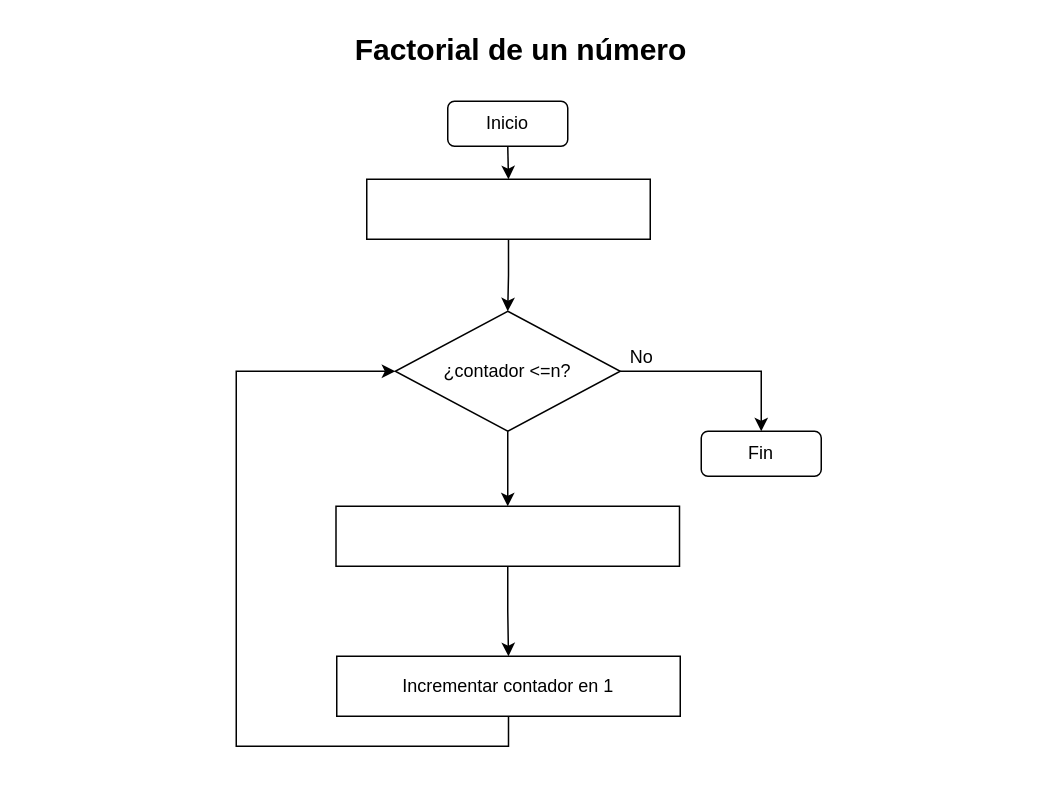
Some shapes in this 1041 by 785 pixel diagram are drawn without their labels. The centre of each missing label's shape, as x and y in pixels:
"Resultado = Resultado x contador" belongs at point 507,535.
"Resultado=1 Contador = 1" belongs at point 507,208.
